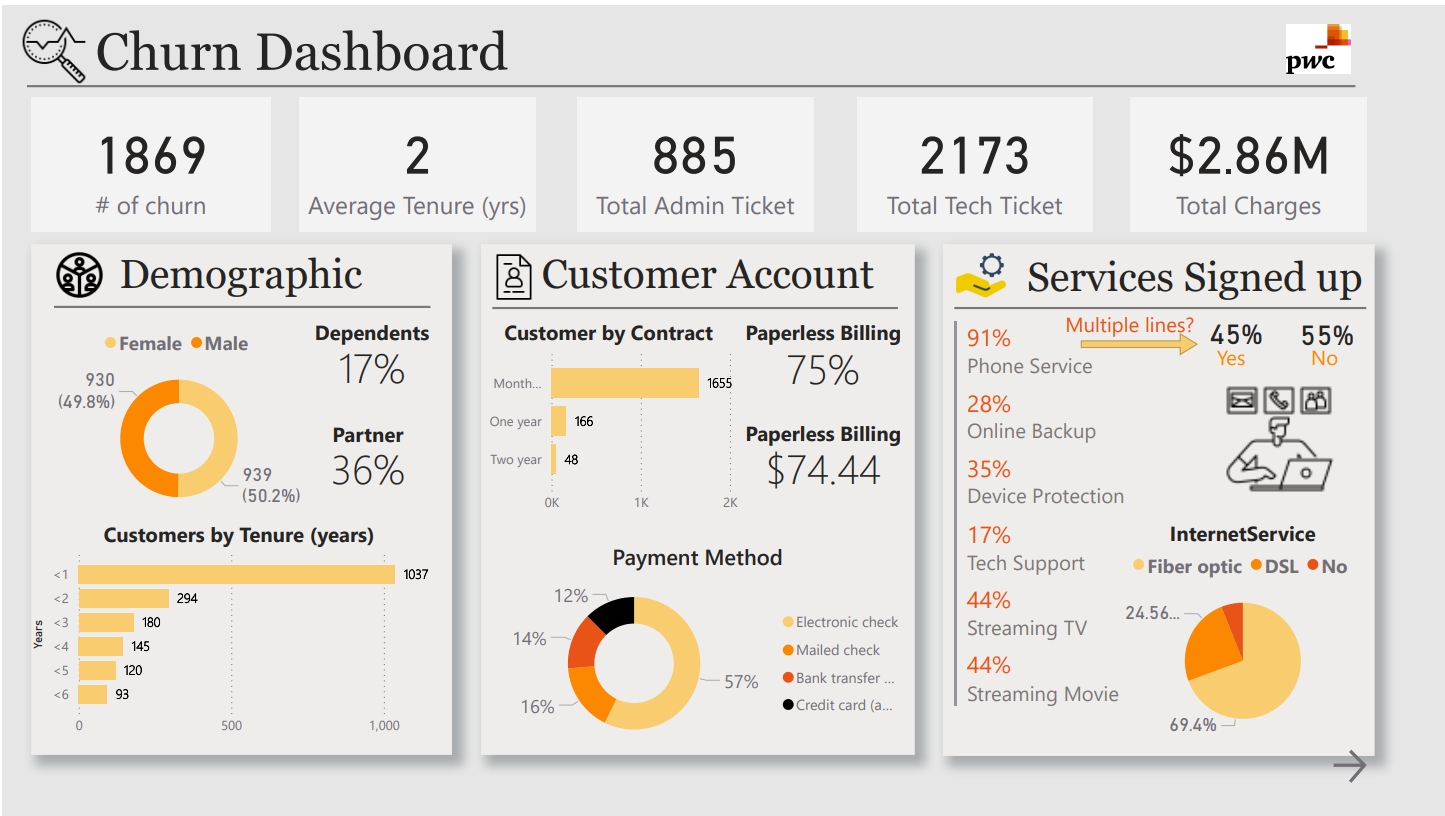

The page's visual inventory and layout, read from the dashboard file:
{"tool":"powerbi","page":{"name":"ChurnDashboar","canvas":[1280,720],"ordinal":0},"visuals":[{"type":"shape","box":[26.6,219.5,386.4,468.1],"z":0},{"type":"shape","box":[439.9,219.5,398.1,468.1],"z":1000},{"type":"shape","box":[863.9,219.5,395.7,469.3],"z":2000},{"type":"textbox","box":[80.4,10.4,1171.7,75.3],"z":3000},{"type":"card","fields":{"Values":["ChurnDataset.# of churn"]},"box":[26.6,85.4,219.5,123.1],"z":4000},{"type":"textbox","box":[102.7,220.5,312.9,57.2],"z":5000},{"type":"card","fields":{"Values":["Avg(ChurnDataset.tenure(years))"]},"box":[272.7,85.4,217.3,123.1],"z":6000},{"type":"card","fields":{"Values":["Sum(ChurnDataset.numAdminTickets)"]},"box":[527.8,85.4,217.3,123.1],"z":7000},{"type":"card","fields":{"Values":["Sum(ChurnDataset.numTechTickets)"]},"box":[785,85.4,216.2,123.1],"z":8000},{"type":"card","title":"Dependents","fields":{"Values":["ChurnDataset.% of dependents"]},"box":[278.7,286.8,121.4,71.2],"z":9000},{"type":"card","title":"Partner","fields":{"Values":["ChurnDataset.% of partner"]},"box":[278.9,380.6,114.1,70.5],"z":10000},{"type":"clusteredBarChart","title":"Customers by Tenure (years)","fields":{"Y":["CountNonNull(ChurnDataset.customerID)"],"Category":["ChurnDataset.<tenure(years)"]},"box":[23.1,472.8,389.9,206.6],"z":11000},{"type":"donutChart","fields":{"Y":["CountNonNull(ChurnDataset.customerID)"],"Category":["ChurnDataset.gender"]},"box":[45.3,286.8,233.5,187.9],"z":12000},{"type":"shape","box":[47.6,267.3,345.5,18.7],"z":13000},{"type":"image","box":[43,218.3,57.2,57.2],"z":14000},{"type":"textbox","box":[490.1,220.6,347.9,57.2],"z":15000},{"type":"shape","box":[450.4,268.5,372.4,18.7],"z":16000},{"type":"image","box":[439.9,211.3,59.5,75.9],"z":17000},{"type":"card","fields":{"Values":["Sum(ChurnDataset.TotalCharges)"]},"box":[1035.5,85.4,217.3,123.1],"z":18000},{"type":"barChart","title":"Customer by Contract","fields":{"Category":["ChurnDataset.Contract"],"Y":["CountNonNull(ChurnDataset.customerID)"]},"box":[431.7,287.2,251,187.9],"z":19000},{"type":"card","title":"Paperless Billing","fields":{"Values":["ChurnDataset.% of paperlessbilling"]},"box":[669.8,287.2,168.1,72.4],"z":20000},{"type":"donutChart","title":"Payment Method","fields":{"Category":["ChurnDataset.PaymentMethod"],"Y":["CountNonNull(ChurnDataset.customerID)"]},"box":[439.9,491.5,398.1,197.3],"z":21000},{"type":"textbox","box":[926.9,223,338.5,54.9],"z":22000},{"type":"shape","box":[874.4,268.5,378.2,18.7],"z":23000},{"type":"image","box":[869.7,218.3,57.2,59.5],"z":24000},{"type":"card","title":"Paperless Billing","fields":{"Values":["Avg(ChurnDataset.MonthlyCharges)"]},"box":[670.1,379.4,168.1,72.4],"z":25000},{"type":"multiRowCard","fields":{"Values":["Caculation.% of PhoneService for YesChurn","Caculation.% of OnlineBackup for YesChurn","Caculation.% of DeviceProtection for YesChurn","Caculation.% of TechSupport for YesChurn","Caculation.% of StreamingTV for YesChurn","Caculation.% of StreamingMovie for YesChurn"]},"box":[869.3,285.5,180.4,393.2],"z":26000},{"type":"card","fields":{"Values":["Caculation.% of MultipleLines for YesChurn"]},"box":[1092.8,279,80.4,44.1],"z":27000},{"type":"card","fields":{"Values":["Caculation.% of No MultipleLines for YesChurn"]},"box":[1173.2,280.3,86.9,42.8],"z":28000},{"type":"textbox","box":[1092.8,304.9,71.4,37.6],"z":29000},{"type":"textbox","box":[1173.2,304.9,83,37.6],"z":30000},{"type":"shape","box":[990,301,107.7,20.8],"z":31000},{"type":"textbox","box":[962.8,275.1,146.6,42.8],"z":32000},{"type":"pieChart","title":"InternetService","fields":{"Category":["ChurnDataset.InternetService"],"Y":["CountNonNull(ChurnDataset.customerID)"]},"box":[1025.1,472.3,227.1,206.3],"z":33000},{"type":"image","box":[1104.4,342.2,135.8,112],"z":34000},{"type":"image","box":[7.8,0,79.1,85.6],"z":35000},{"type":"image","box":[1174.1,4.4,68.7,72.1],"z":36000},{"type":"shape","box":[23.3,63.2,1219.6,22.2],"z":37000},{"type":"actionButton","box":[1216.4,678.2,63.3,40.4],"z":38000}]}

Visuals, with their boxes in screenshot pixels (x1, y1, x2, y2), scaled from the page's 1280x720 canvas onto the 1445x816 screenshot:
shape: rect(30, 249, 466, 779)
shape: rect(497, 249, 946, 779)
shape: rect(975, 249, 1422, 781)
textbox: rect(91, 12, 1414, 97)
card - ChurnDataset.# of churn: rect(30, 97, 278, 236)
textbox: rect(116, 250, 469, 315)
card - Avg(ChurnDataset.tenure(years)): rect(308, 97, 553, 236)
card - Sum(ChurnDataset.numAdminTickets): rect(596, 97, 841, 236)
card - Sum(ChurnDataset.numTechTickets): rect(886, 97, 1130, 236)
"Dependents" card: rect(315, 325, 452, 406)
"Partner" card: rect(315, 431, 444, 511)
"Customers by Tenure (years)" clusteredBarChart: rect(26, 536, 466, 770)
donutChart - CountNonNull(ChurnDataset.customerID) x ChurnDataset.gender: rect(51, 325, 315, 538)
shape: rect(54, 303, 444, 324)
image: rect(49, 247, 113, 312)
textbox: rect(553, 250, 946, 315)
shape: rect(508, 304, 929, 325)
image: rect(497, 239, 564, 325)
card - Sum(ChurnDataset.TotalCharges): rect(1169, 97, 1414, 236)
"Customer by Contract" barChart: rect(487, 325, 771, 538)
"Paperless Billing" card: rect(756, 325, 946, 408)
"Payment Method" donutChart: rect(497, 557, 946, 781)
textbox: rect(1046, 253, 1429, 315)
shape: rect(987, 304, 1414, 325)
image: rect(982, 247, 1046, 315)
"Paperless Billing" card: rect(756, 430, 946, 512)
multiRowCard - Caculation.% of PhoneService for YesChurn x Caculation.% of OnlineBackup for YesChurn: rect(981, 324, 1185, 769)
card - Caculation.% of MultipleLines for YesChurn: rect(1234, 316, 1324, 366)
card - Caculation.% of No MultipleLines for YesChurn: rect(1324, 318, 1423, 366)
textbox: rect(1234, 346, 1314, 388)
textbox: rect(1324, 346, 1418, 388)
shape: rect(1118, 341, 1239, 365)
textbox: rect(1087, 312, 1252, 360)
"InternetService" pieChart: rect(1157, 535, 1414, 769)
image: rect(1247, 388, 1400, 515)
image: rect(9, 0, 98, 97)
image: rect(1325, 5, 1403, 87)
shape: rect(26, 72, 1403, 97)
actionButton: rect(1373, 769, 1444, 814)
